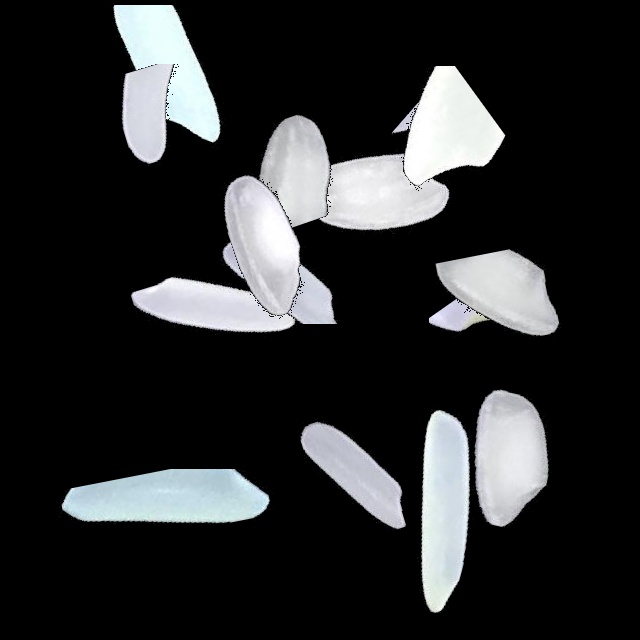Broken: (31, 5, 281, 174), (422, 208, 584, 458), (152, 66, 402, 228), (172, 162, 422, 324), (44, 64, 294, 220), (47, 469, 297, 617), (294, 66, 544, 205), (429, 221, 538, 471), (386, 31, 477, 281)
Full: (230, 349, 480, 599), (384, 333, 634, 583), (86, 182, 336, 432), (248, 69, 498, 319), (316, 388, 566, 638), (142, 120, 392, 370)
